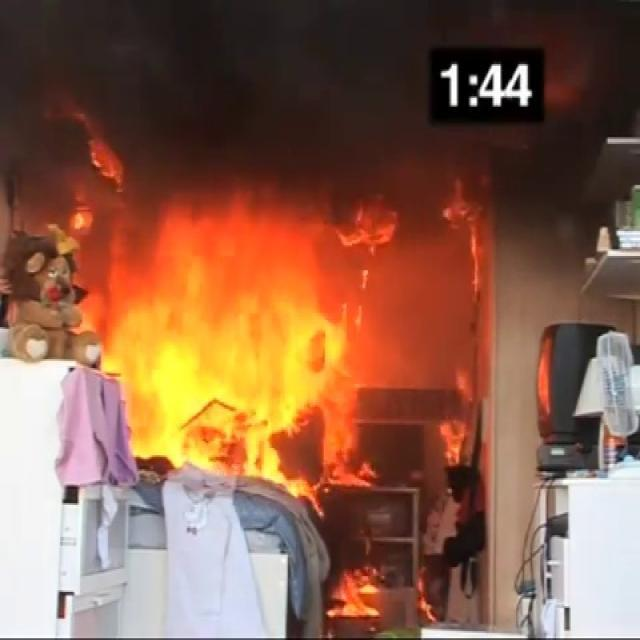Fire: (90, 182, 373, 489)
Smoke: (133, 13, 408, 162)
